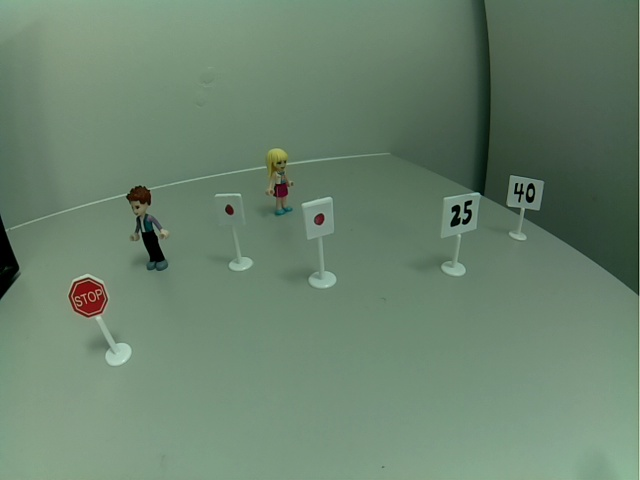people: (122, 185, 172, 273), (261, 145, 296, 217)
red light: (301, 197, 339, 239), (214, 191, 244, 226)
speed 25: (442, 192, 479, 238)
speed 40: (506, 173, 547, 211)
stop: (66, 274, 110, 320)
